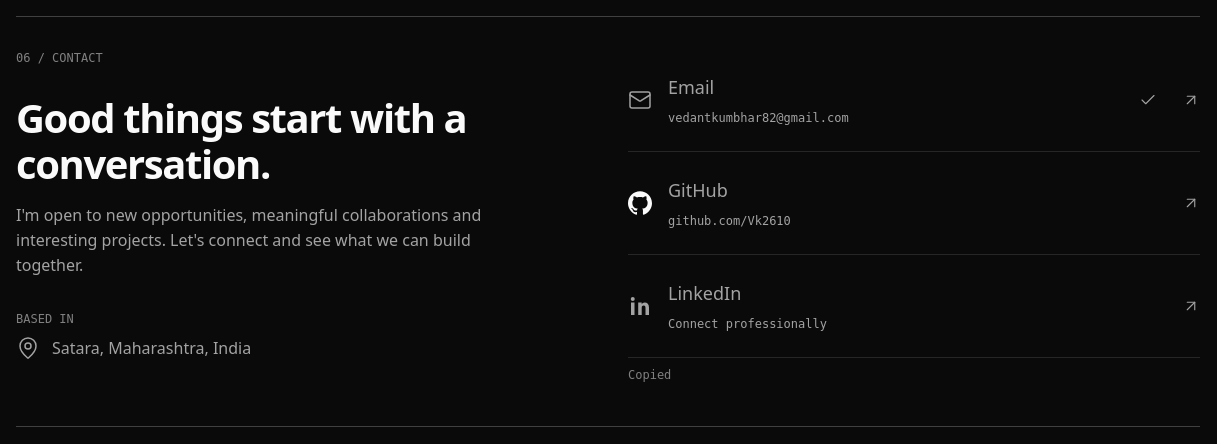
Scenario: ignores stale clipboard results and restarts the success reset after a repeat
Earlier steps of the test are not shown.
Later steps or results of the test are not shown.
Check: the message reads "Copied", box [628,368,671,382]
Click the button named "Copy email address" at [1148, 100], box [1126,78,1170,122]
Wait 1500 ms
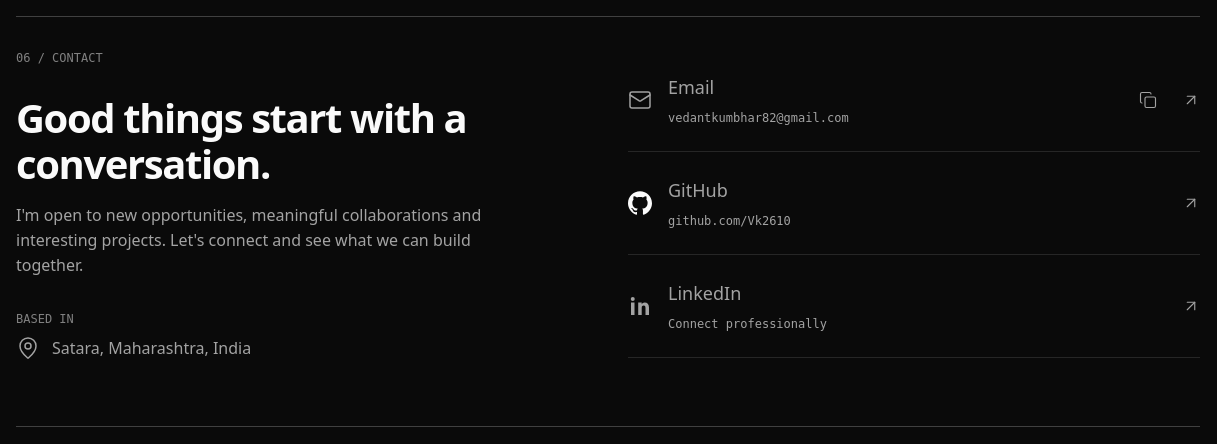
Check: the 2nd icon has attribute data-copied="false", box [1139,91,1157,109]
